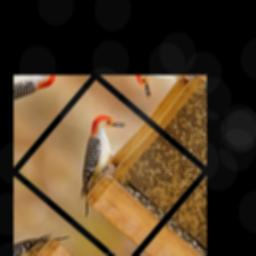Woodpecker: (42, 106, 149, 218)
